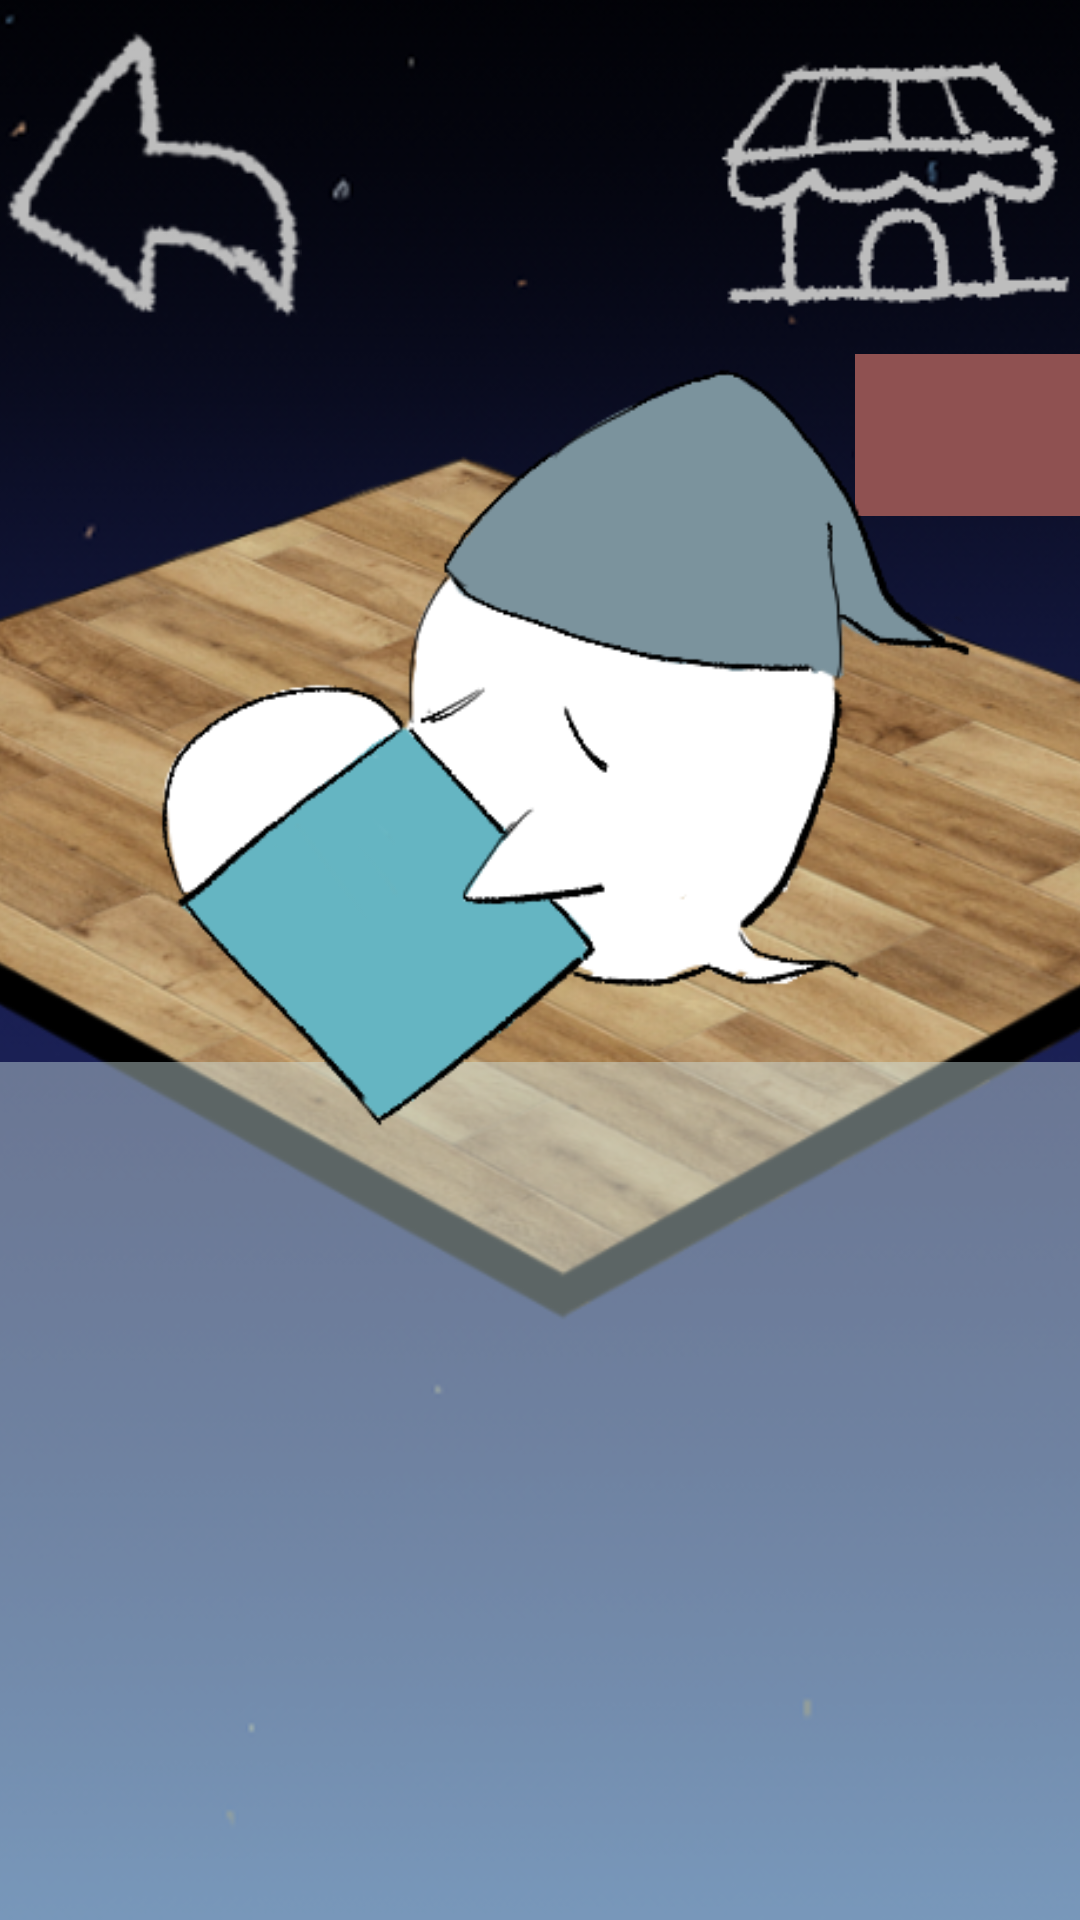

Icon bounding boxes for this 1080w x 1920h phone screenshot, format (x1, y1, x2, y2):
back: (5, 16, 300, 317)
shop: (721, 62, 1070, 325)
